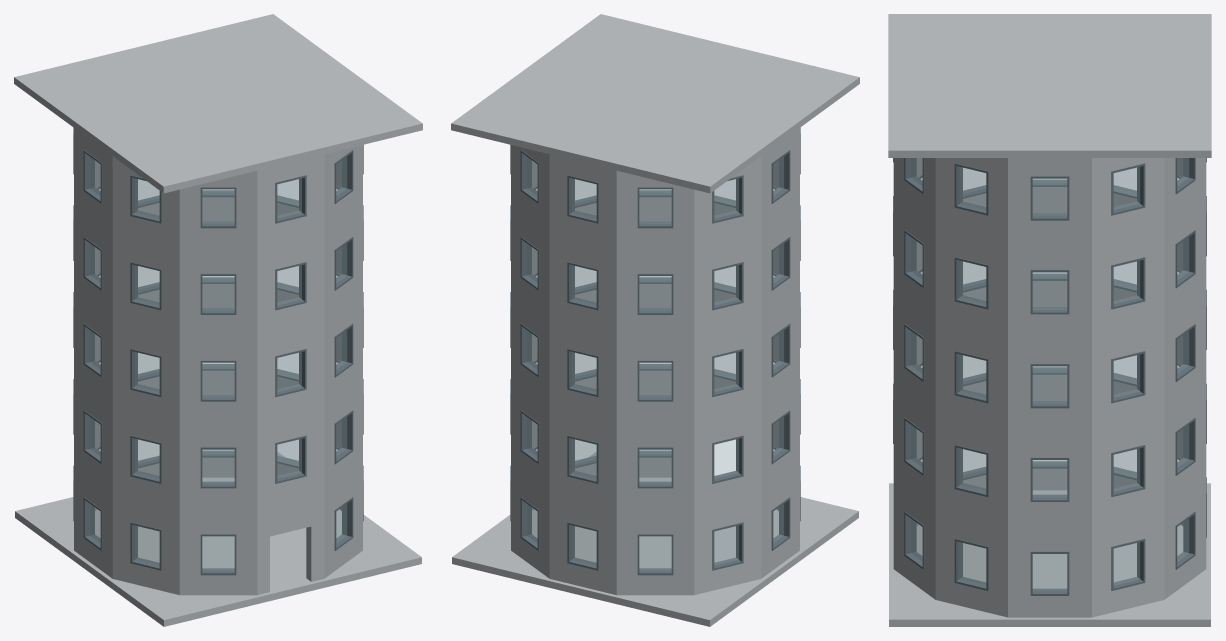
File: tower_5_lod1.glb
3 renders of one model, left to right at view 1: azimuth 30°, elevation 25°; view 2: azimuth 150°, elevation 25°; view 3: azimuth 270°, elevation 25°, orthographic. The views are drawn at different scales.
Parts seen in each view (by area): view 1: Ceiling baked, Wall_11 baked, Wall_0 baked, Wall_10 baked, Floor baked, Wall_9 baked, Wall_1 baked, Wall_5 baked, Glazing.054 baked, Glazing.056 baked, Glazing.057 baked, Glazing.058 baked (+14 smaller); view 2: Ceiling baked, Wall_7 baked, Wall_6 baked, Wall_8 baked, Wall_9 baked, Wall_5 baked, Floor baked, Wall_1 baked, Glazing.034 baked, Glazing.036 baked, Glazing.037 baked, Glazing.038 baked (+14 smaller); view 3: Ceiling baked, Wall_3 baked, Wall_2 baked, Wall_4 baked, Wall_1 baked, Wall_5 baked, Floor baked, Wall_9 baked, Glazing.015 baked, Glazing.016 baked, Glazing.017 baked, Glazing.014 baked (+31 smaller).
Boxes of the visible parts, x1=… form: Ceiling baked: x1=14, y1=14, x2=422, y2=193; Wall_11 baked: x1=179, y1=171, x2=257, y2=595; Wall_0 baked: x1=257, y1=154, x2=324, y2=594; Wall_10 baked: x1=112, y1=156, x2=179, y2=594; Floor baked: x1=15, y1=451, x2=421, y2=626; Wall_9 baked: x1=74, y1=128, x2=112, y2=578; Wall_1 baked: x1=324, y1=145, x2=362, y2=578; Wall_5 baked: x1=202, y1=197, x2=234, y2=477; Glazing.054 baked: x1=202, y1=536, x2=234, y2=570; Glazing.056 baked: x1=202, y1=363, x2=234, y2=397; Glazing.057 baked: x1=202, y1=276, x2=234, y2=310; Glazing.058 baked: x1=202, y1=189, x2=234, y2=223; Ceiling baked: x1=451, y1=14, x2=859, y2=193; Wall_7 baked: x1=616, y1=171, x2=694, y2=595; Wall_6 baked: x1=549, y1=154, x2=616, y2=594; Wall_8 baked: x1=694, y1=156, x2=761, y2=594; Wall_9 baked: x1=761, y1=128, x2=799, y2=578; Wall_5 baked: x1=511, y1=145, x2=549, y2=578; Floor baked: x1=452, y1=451, x2=858, y2=626; Wall_1 baked: x1=639, y1=197, x2=671, y2=477; Glazing.034 baked: x1=639, y1=536, x2=671, y2=570; Glazing.036 baked: x1=639, y1=363, x2=671, y2=397; Glazing.037 baked: x1=639, y1=276, x2=671, y2=310; Glazing.038 baked: x1=639, y1=189, x2=671, y2=223; Ceiling baked: x1=888, y1=14, x2=1211, y2=157; Wall_3 baked: x1=1008, y1=158, x2=1091, y2=617; Wall_2 baked: x1=935, y1=158, x2=1007, y2=617; Wall_4 baked: x1=1092, y1=158, x2=1164, y2=617; Wall_1 baked: x1=893, y1=158, x2=935, y2=599; Wall_5 baked: x1=1164, y1=158, x2=1206, y2=599; Floor baked: x1=889, y1=483, x2=1210, y2=626; Wall_9 baked: x1=1032, y1=187, x2=1067, y2=490; Glazing.015 baked: x1=1033, y1=460, x2=1066, y2=497; Glazing.016 baked: x1=1033, y1=366, x2=1066, y2=403; Glazing.017 baked: x1=1033, y1=272, x2=1066, y2=309; Glazing.014 baked: x1=1033, y1=554, x2=1066, y2=590.
Bounding box in the file's own units: 10 × 16.25 × 10.
